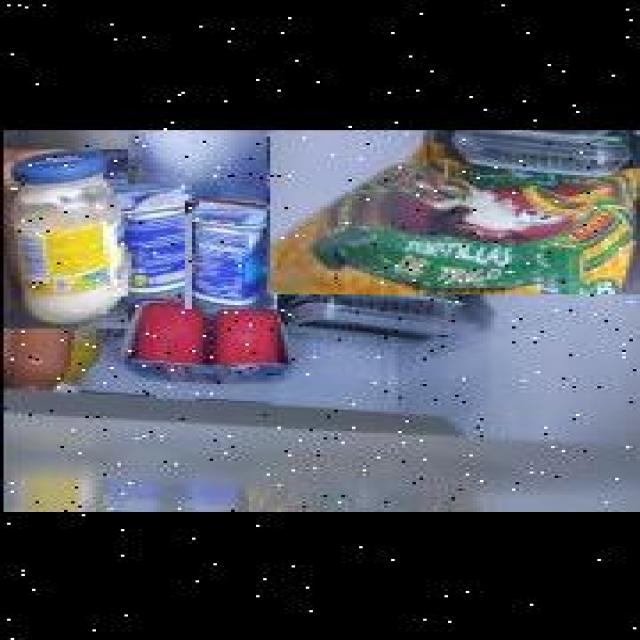mayonaise: (0, 146, 124, 325)
tortillas: (266, 127, 640, 292)
yogurt: (185, 198, 277, 308), (101, 183, 187, 294)
